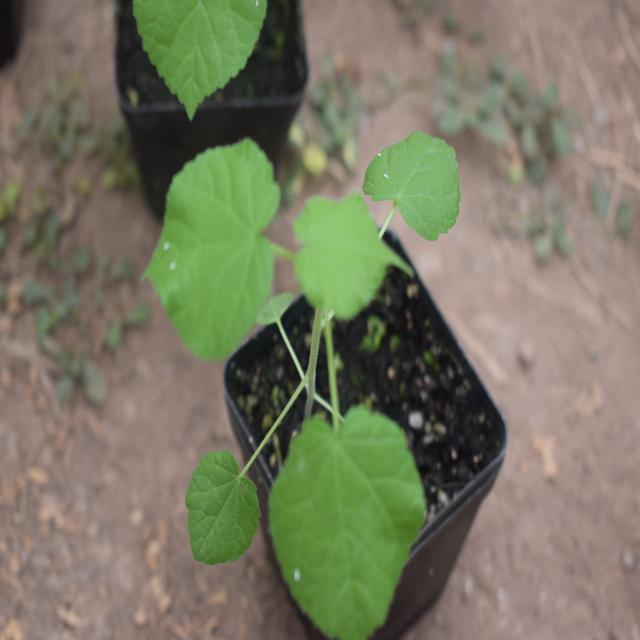abutilon theophrasti: (154, 113, 466, 606)
